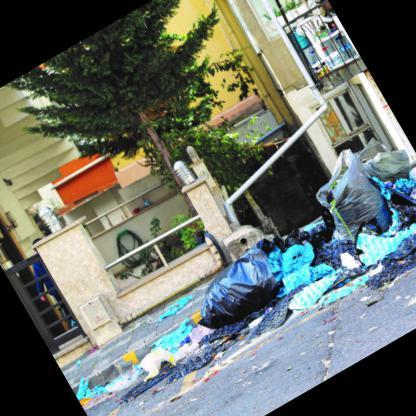Garbage: (169, 124, 415, 355), (290, 233, 402, 336), (306, 149, 402, 264), (112, 332, 228, 415), (189, 240, 292, 332), (352, 127, 415, 203), (138, 343, 183, 386), (161, 292, 198, 325)
